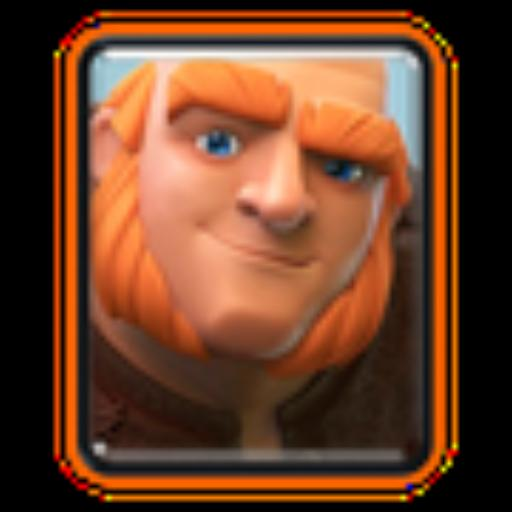giant: (83, 51, 419, 455)
